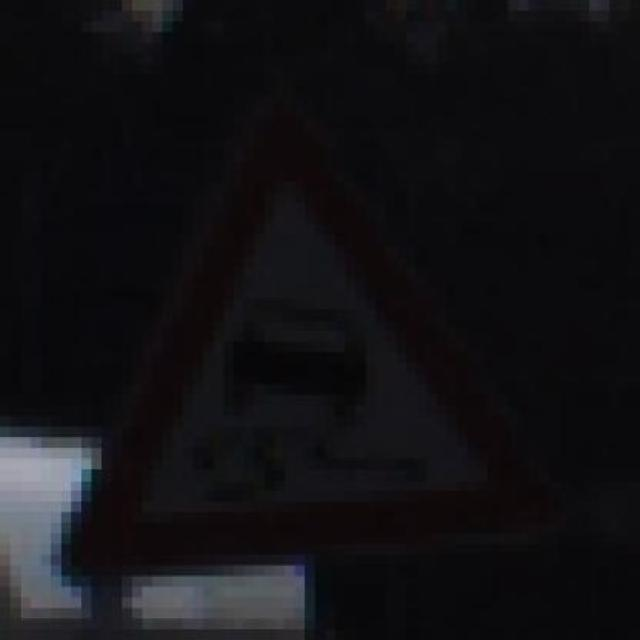Slippery Road Ahead: (51, 107, 549, 576)
